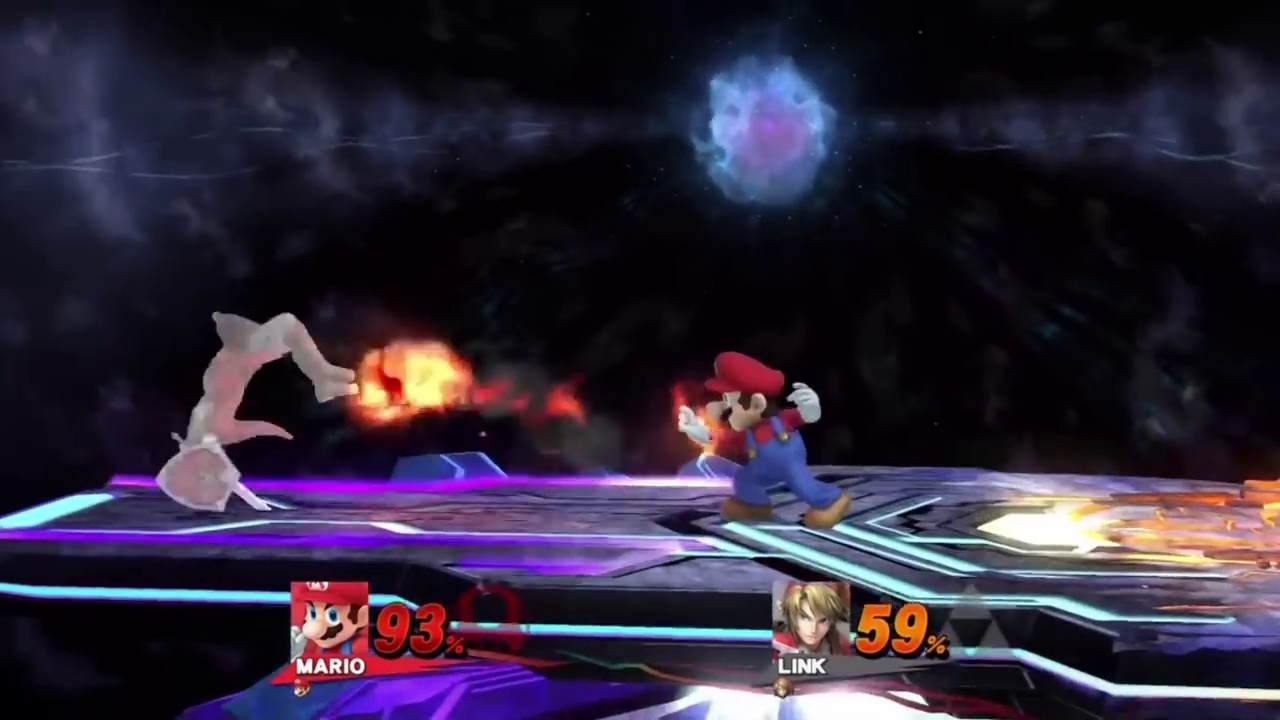Mario: (677, 353, 862, 536)
